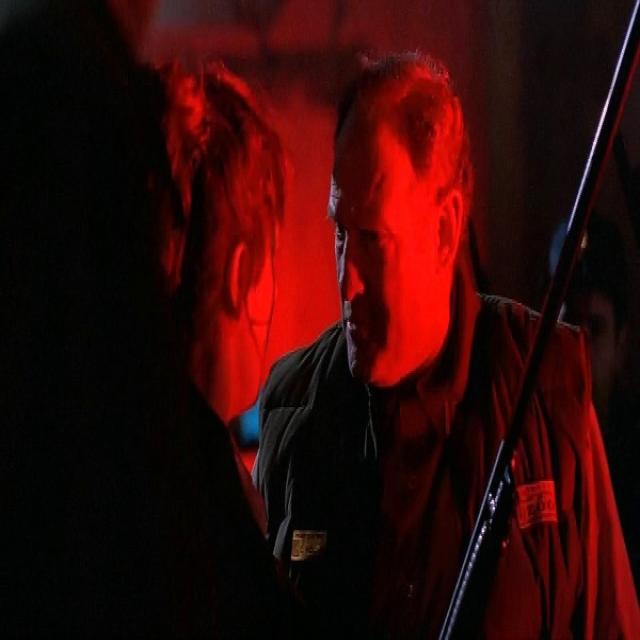rifle: (435, 1, 640, 640)
